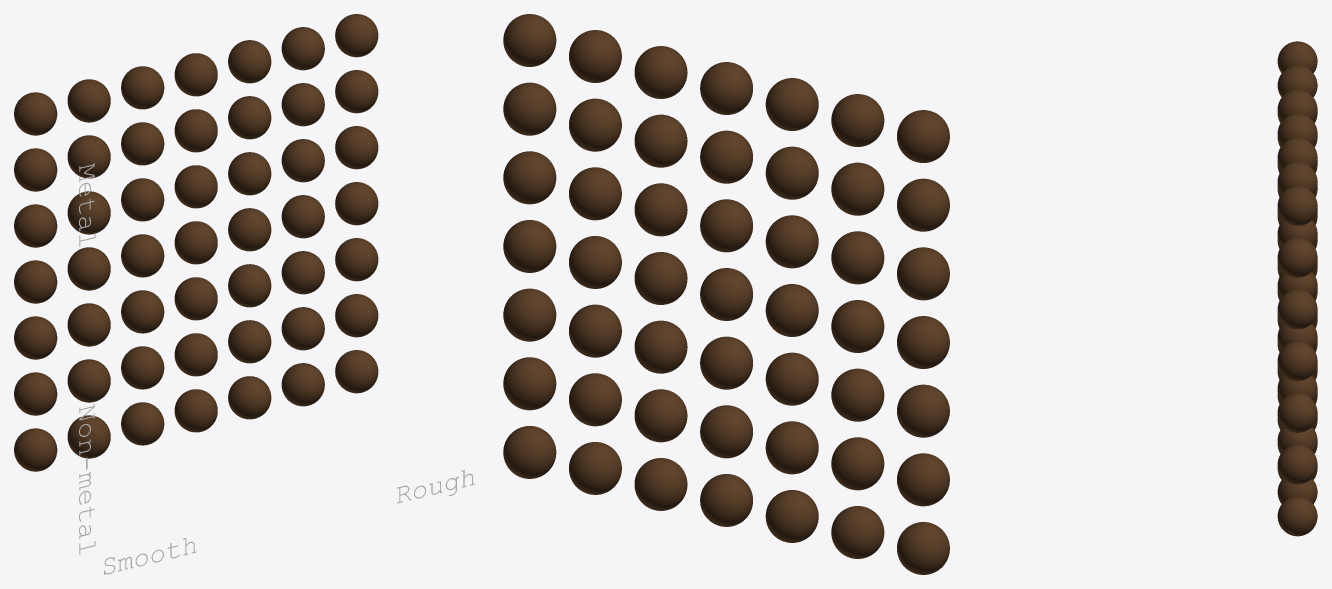
The model's file is MetalRoughSpheresNoTextures brown.gltf.
3 renders of one model, left to right at view 1: azimuth 30°, elevation 25°; view 2: azimuth 150°, elevation 25°; view 3: azimuth 270°, elevation 25°, orthographic. The views are drawn at different scales.
Parts seen in each view (by area): view 1: g_m0%_r0%, g_m33%_r33%, g_m50%_r33%, g_m100%_r0%, g_m0%_r33%, g_m0%_r66%, g_m16%_r0%, g_m16%_r33%, g_m66%_r33%, g_m83%_r0%, g_m83%_r33%, g_m33%_r0% (+38 smaller); view 2: g_m50%_r66%, g_m100%_r66%, g_m0%_r66%, g_m33%_r100%, g_m66%_r0%, g_m16%_r0%, g_m16%_r16%, g_m33%_r16%, g_m33%_r83%, g_m66%_r16%, g_m66%_r33%, g_m66%_r100% (+37 smaller); view 3: g_m66%_r100%, g_m0%_r100%, g_m16%_r100%, g_m33%_r100%, g_m50%_r100%, g_m100%_r100%, g_m83%_r100%, g_m100%_r0%, g_m100%_r16%, g_m100%_r33%, g_m100%_r50%, g_m100%_r66% (+7 smaller).
Part boxes in pixels (box(x1,y1,x2,y2)): g_m0%_r0%: box(14, 428, 57, 471); g_m33%_r33%: box(121, 290, 164, 333); g_m50%_r33%: box(121, 234, 164, 277); g_m100%_r0%: box(14, 92, 57, 135); g_m0%_r33%: box(121, 402, 164, 445); g_m0%_r66%: box(228, 376, 271, 419); g_m16%_r0%: box(14, 372, 57, 415); g_m16%_r33%: box(121, 346, 164, 389); g_m66%_r33%: box(121, 178, 164, 221); g_m83%_r0%: box(14, 148, 57, 191); g_m83%_r33%: box(121, 122, 164, 165); g_m33%_r0%: box(14, 316, 57, 359); g_m50%_r66%: box(634, 252, 687, 304); g_m100%_r66%: box(634, 46, 687, 98); g_m0%_r66%: box(634, 458, 687, 510); g_m33%_r100%: box(503, 288, 556, 341); g_m66%_r0%: box(897, 247, 949, 300); g_m16%_r0%: box(897, 453, 949, 506); g_m16%_r16%: box(831, 437, 884, 490); g_m33%_r16%: box(831, 368, 884, 421); g_m33%_r83%: box(569, 304, 621, 357); g_m66%_r16%: box(831, 231, 884, 284); g_m66%_r33%: box(765, 215, 818, 268); g_m66%_r100%: box(503, 151, 556, 204); g_m66%_r100%: box(1277, 289, 1317, 329); g_m0%_r100%: box(1277, 496, 1317, 536); g_m16%_r100%: box(1277, 444, 1317, 484); g_m33%_r100%: box(1277, 393, 1317, 432); g_m50%_r100%: box(1277, 341, 1317, 381); g_m100%_r100%: box(1277, 186, 1317, 225); g_m83%_r100%: box(1277, 238, 1317, 277); g_m100%_r0%: box(1277, 41, 1317, 73); g_m100%_r16%: box(1277, 65, 1317, 97); g_m100%_r33%: box(1277, 89, 1317, 121); g_m100%_r50%: box(1277, 113, 1317, 145); g_m100%_r66%: box(1277, 138, 1317, 169).
Size of the model in its own units: 0.0074 by 0.0075 by 0.00335.
